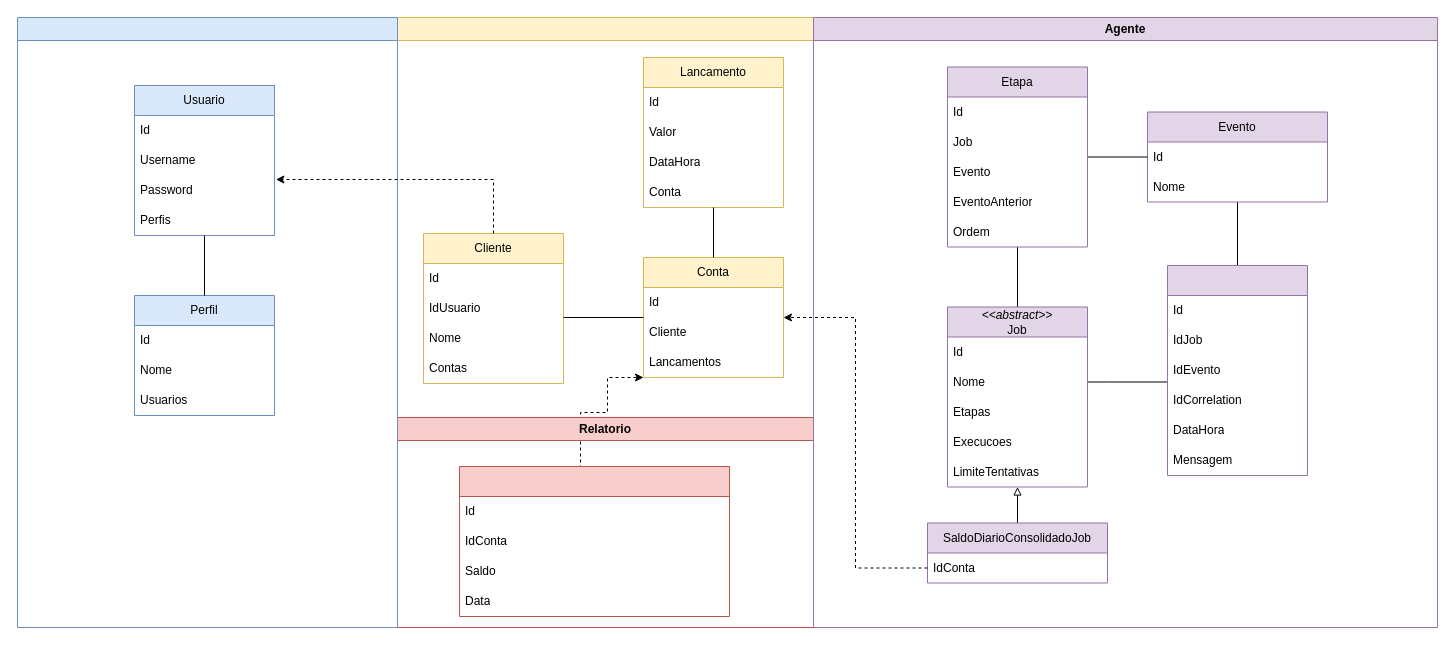
The diagram is 1455 pixels wide and 645 high, and some of its shapes have lost their labels. The shapes that lost their labels are listed below. From the top down, each one's box as (x1, y1, x2, y2) in pixels, then its label:
(396, 16, 814, 418): Financeiro
(16, 16, 398, 628): Auth
(1166, 264, 1308, 476): Execucao
(458, 466, 730, 616): SaldoDiarioConsolidado
